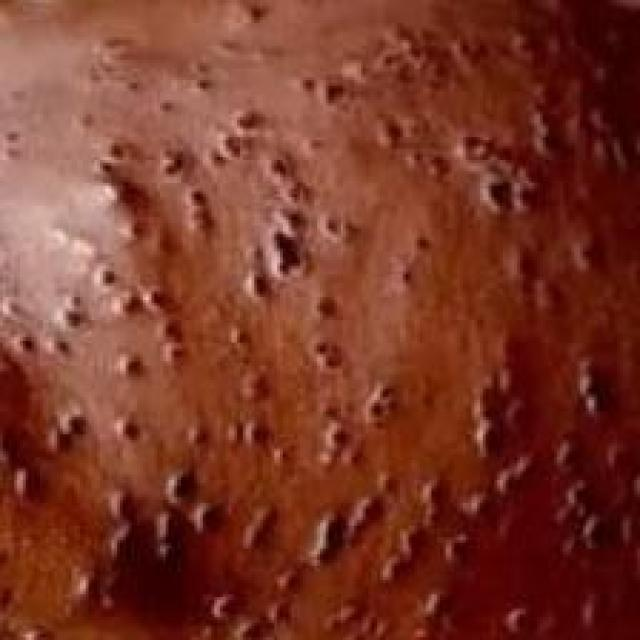monkeypox: (15, 1, 640, 634)
